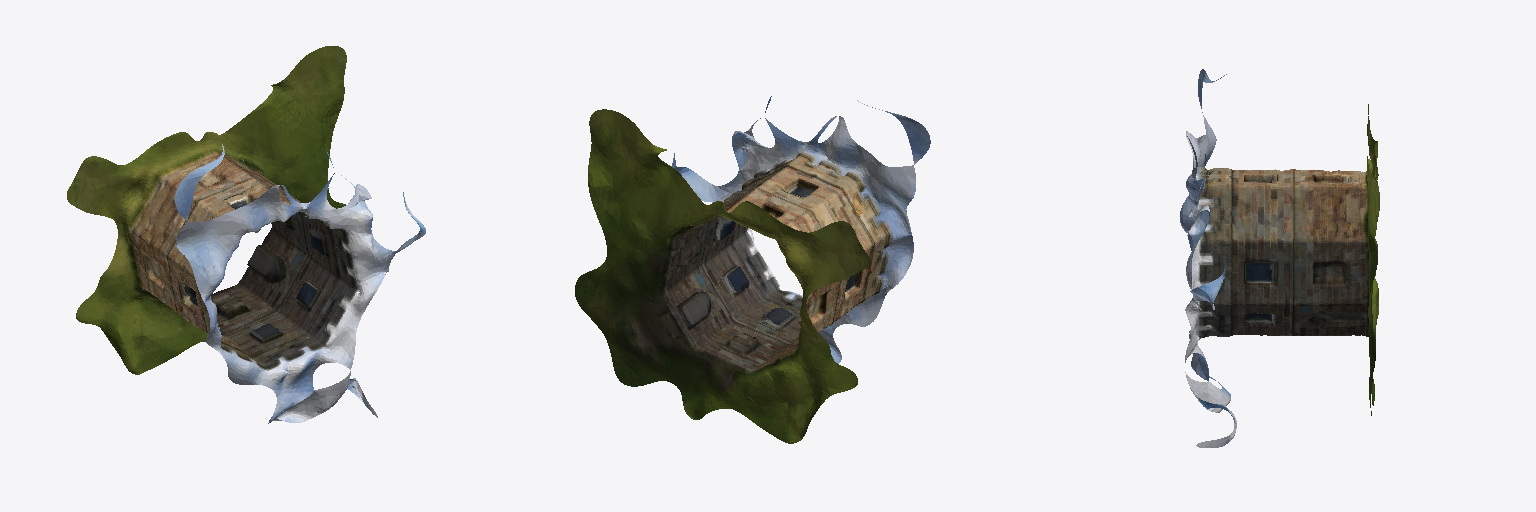
3 renders of one model, left to right at view 1: azimuth 30°, elevation 25°; view 2: azimuth 150°, elevation 25°; view 3: azimuth 270°, elevation 25°, orthographic.
Size of the model in its own units: 25.87 by 25.91 by 15.41.
Materials: 2 (1 with a texture image).